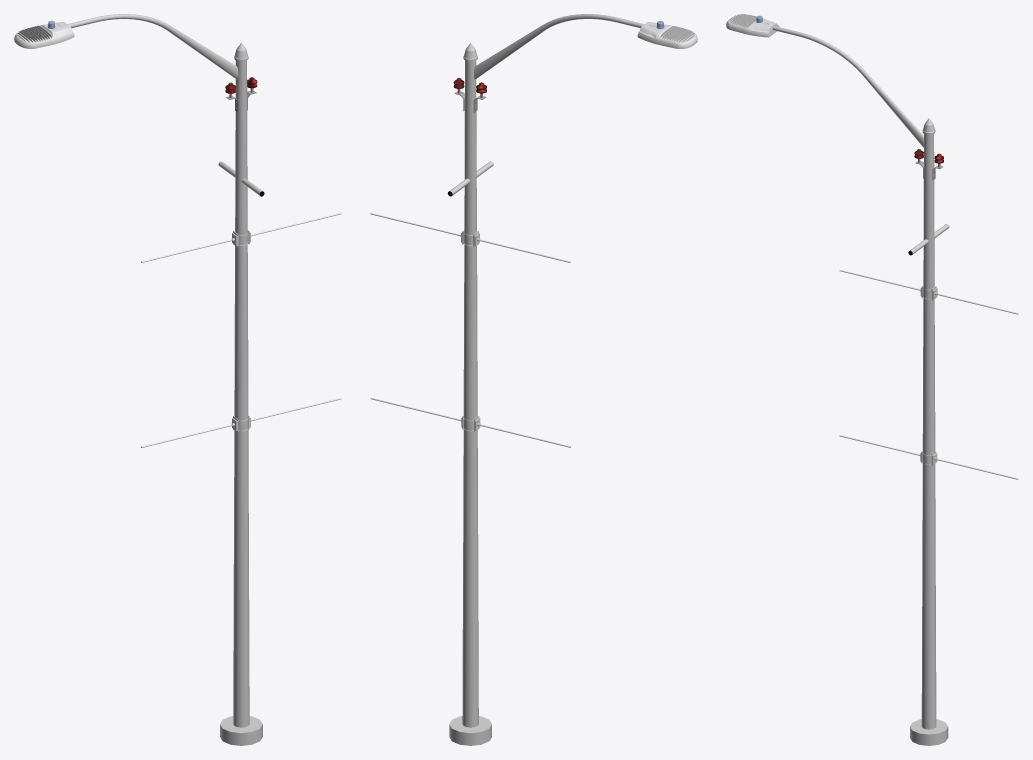
Rendered from city_street_light_1.glb.
3 renders of one model, left to right at view 1: azimuth 30°, elevation 25°; view 2: azimuth 150°, elevation 25°; view 3: azimuth 330°, elevation 25°, orthographic. The views are drawn at different scales.
Parts seen in each view (by area): view 1: Material2 (×3), Material3; view 2: Material2 (×3), Material3; view 3: Material2 (×3), Material3.
Boxes of the visible parts, x1,y1,x2,y2 form: Material2 (×3): (14, 14, 262, 745); Material3: (141, 212, 341, 447); Material2 (×3): (449, 14, 697, 745); Material3: (370, 213, 570, 447); Material2 (×3): (726, 14, 949, 745); Material3: (839, 270, 1018, 479).
Size of what is drawn, in the model's own units: 219 by 492 by 48.19.
Materials: 16 (4 with a texture image).
